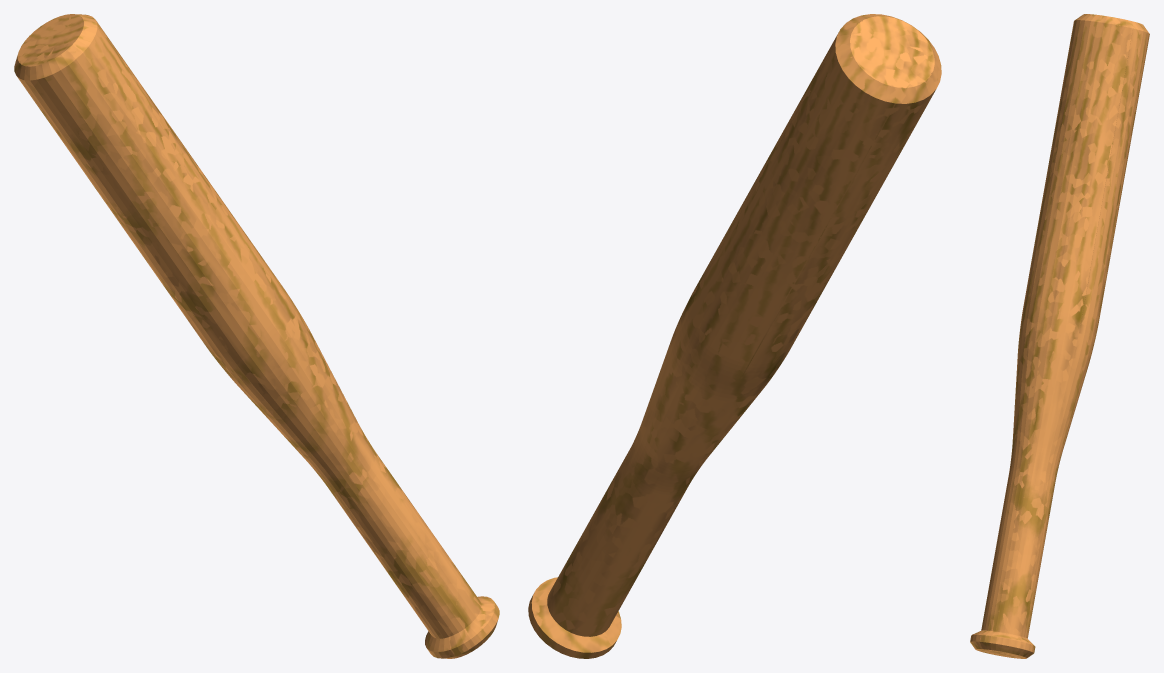
Rendered from Baseball2.fbx.
3 views of the same model, side by side, from view 1: azimuth 30°, elevation 25°; view 2: azimuth 150°, elevation 25°; view 3: azimuth 270°, elevation 25° (orthographic). The views are drawn at different scales.
Visible parts, largest first — view 1: Cylinder; view 2: Cylinder; view 3: Cylinder.
Boxes of the visible parts, left/top/right/bottom form: Cylinder: left=14, top=14, right=499, bottom=658; Cylinder: left=528, top=14, right=941, bottom=658; Cylinder: left=970, top=14, right=1149, bottom=658.
Size of the model in its own units: 46.15 by 71.88 by 22.26.
1 material, 1 textured.
